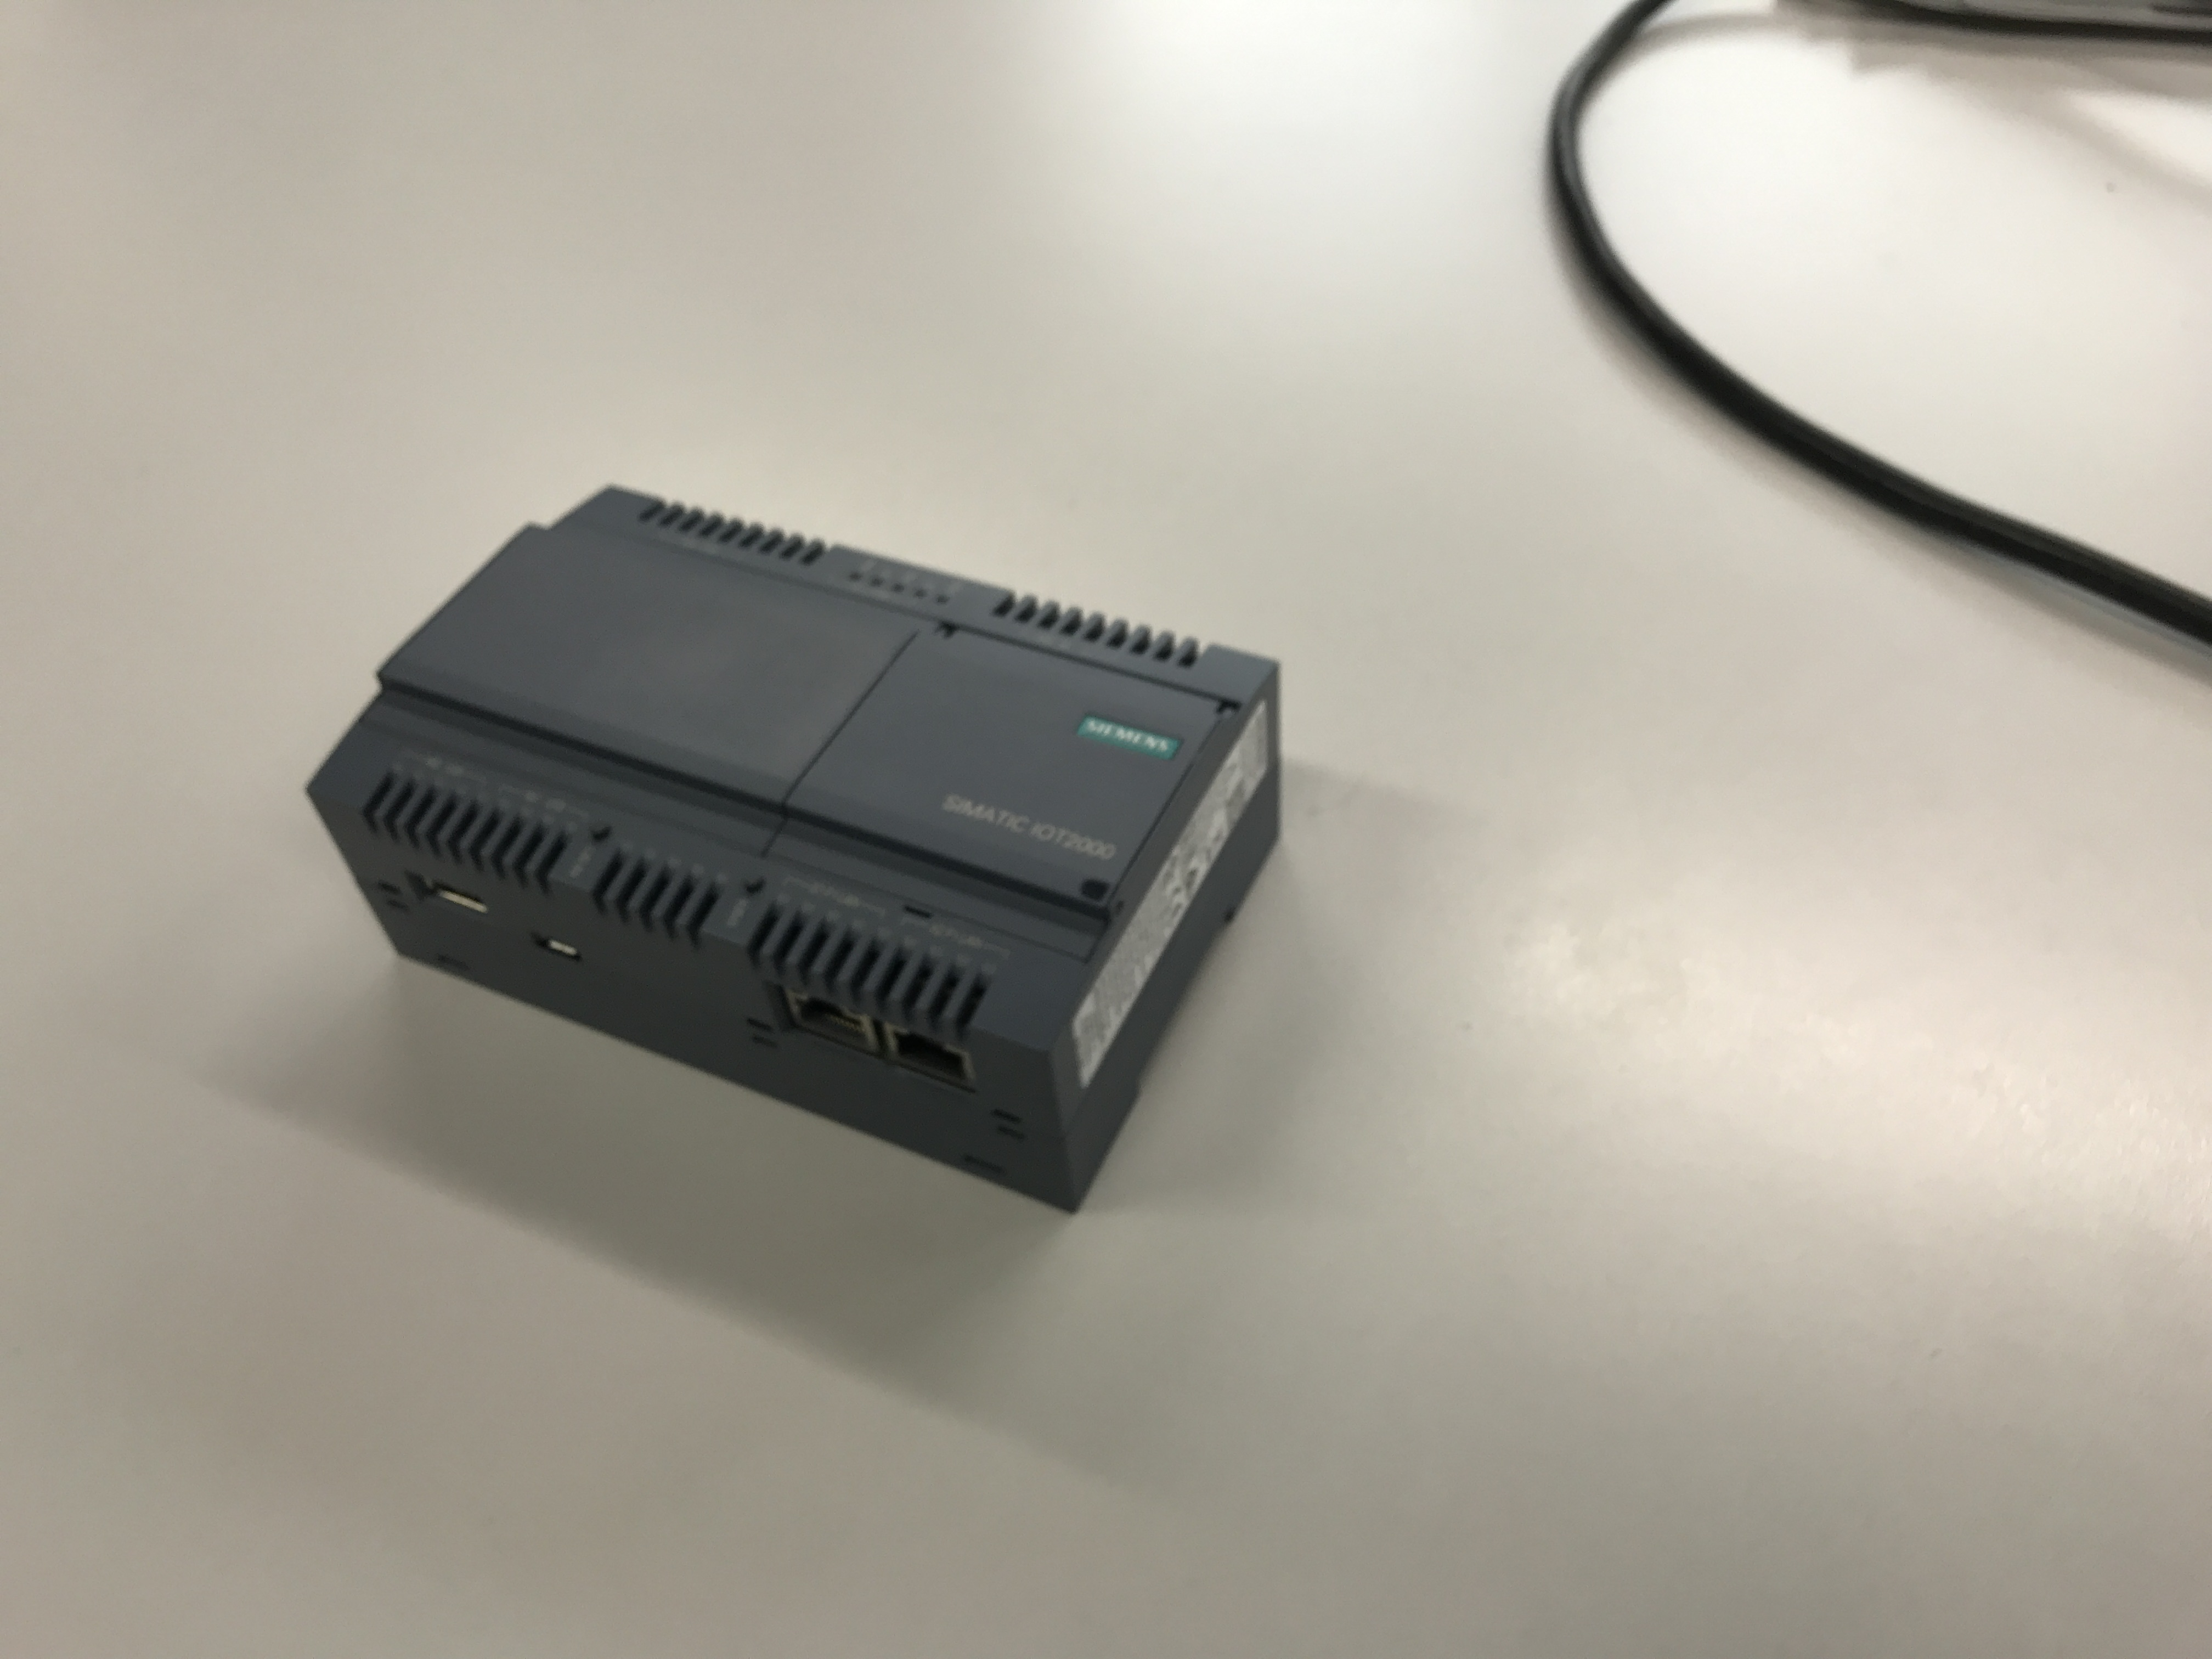device: (301, 483, 1285, 1218)
